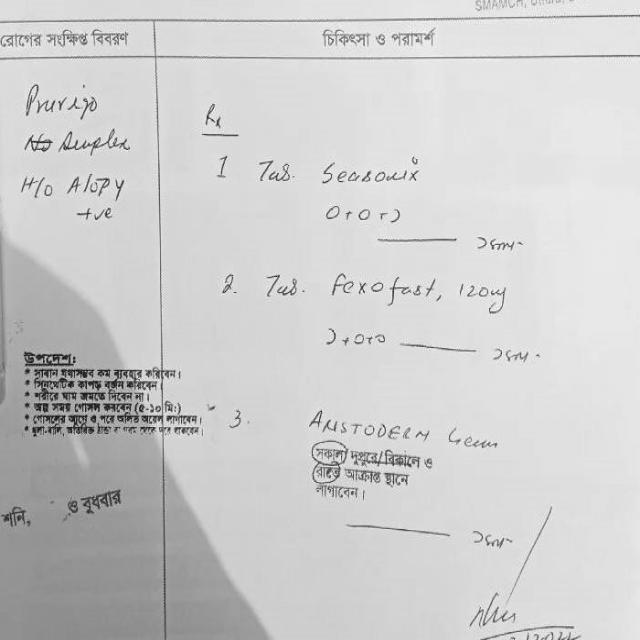medicine: (301, 401, 438, 444), (318, 152, 426, 195), (326, 268, 442, 304)
